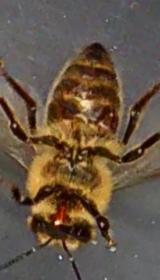varroa_mite: (98, 102, 120, 138)
